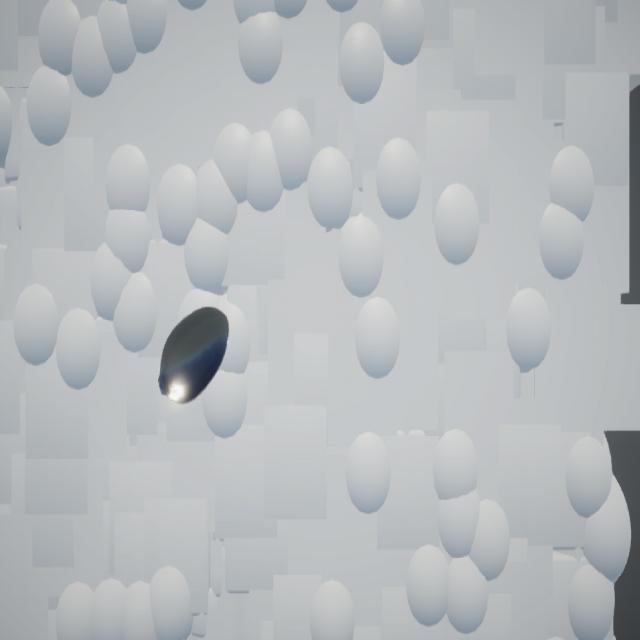top_spoon: (159, 308, 230, 406)
